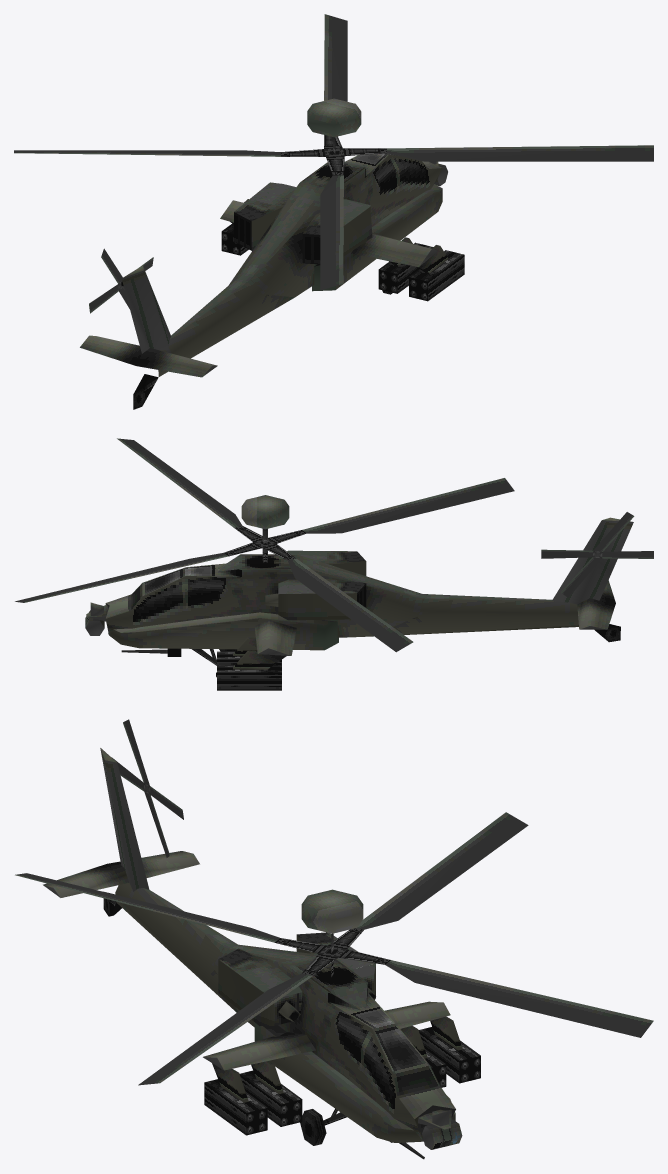
The model's file is ps2_save-icons_kyoushuukidoubutaikougekihelicoptersenki.glb.
The picture shows the model from 3 angles, top to bottom: view 1: azimuth 30°, elevation 25°; view 2: azimuth 150°, elevation 25°; view 3: azimuth 270°, elevation 25°; orthographic projection. The views are drawn at different scales.
Visible parts, largest first — view 1: static.ico; view 2: static.ico; view 3: static.ico.
Boxes of the visible parts, x1=… form: static.ico: x1=14, y1=14, x2=653, y2=409; static.ico: x1=15, y1=438, x2=653, y2=690; static.ico: x1=15, y1=719, x2=653, y2=1159.
Size of the model in its own units: 4.97 by 1.55 by 4.13.
1 material, 1 textured.
